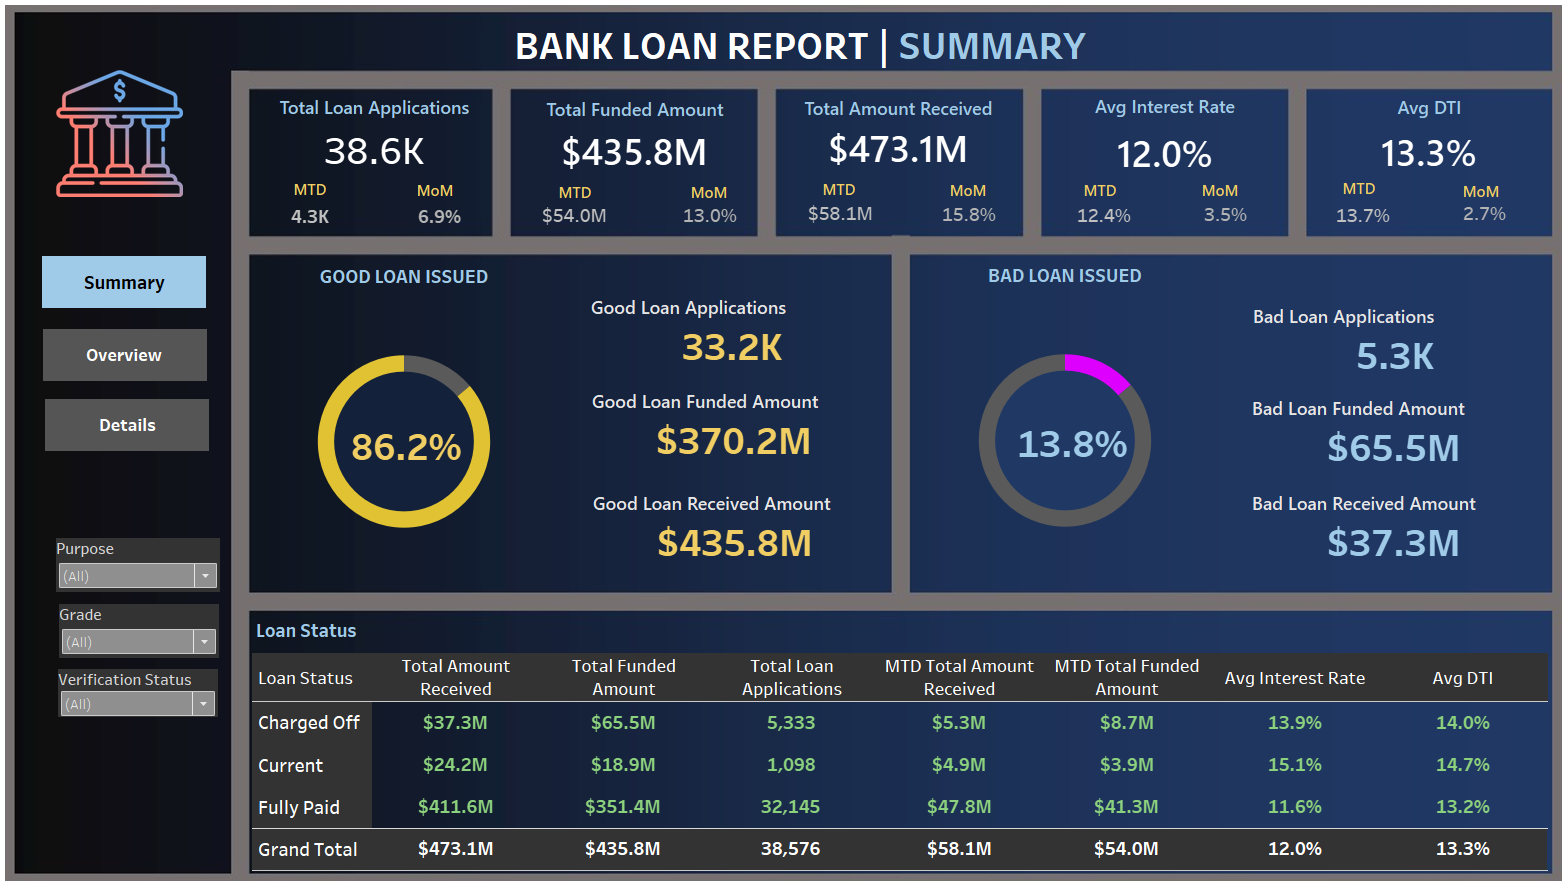

This screenshot's page, from the dashboard's own definition file:
{"tool":"tableau","page":{"name":"SUMMARY","canvas":[1600,900],"ordinal":2},"visuals":[{"type":"image","param":"D:/ProJ_Activity/Portfolio Project/Bank Loan Project/Bank Loan Project/Tableau B","box":[8,8,1584,884]},{"type":"text","box":[527,23,580,56]},{"type":"image","param":"C:/Users/singh/AppData/Local/Temp/TableauTemp/0ttv3fi17pgv751f3xp4t11zuqg1/Sheet","box":[72,77,135,127]},{"type":"worksheet","title":"Avg Interest Rate","mark":"Automatic","box":[1061,97,240,86]},{"type":"worksheet","title":"Total Loan Applications","mark":"Automatic","box":[278,98,225,79]},{"type":"worksheet","title":"Avg DTI","mark":"Automatic","box":[1325,98,241,83]},{"type":"worksheet","title":"Total Amount Received","mark":"Automatic","box":[795,99,239,73]},{"type":"worksheet","title":"Total Funded Amount","mark":"Automatic","box":[533,100,236,76]},{"type":"text","box":[1333,183,84,23]},{"type":"text","box":[284,184,84,23]},{"type":"text","box":[813,184,84,23]},{"type":"text","box":[409,185,84,23]},{"type":"text","box":[942,185,84,23]},{"type":"text","box":[1074,185,84,23]},{"type":"text","box":[1194,185,84,23]},{"type":"text","box":[1455,186,84,23]},{"type":"text","box":[549,187,84,23]},{"type":"text","box":[683,187,84,23]},{"type":"worksheet","title":"MTD Total Amount Received","mark":"Automatic","box":[815,203,83,34]},{"type":"worksheet","title":"MTD Avg DTI","mark":"Automatic","box":[1342,204,74,36]},{"type":"worksheet","title":"MTD Total Funded Amount","mark":"Automatic","box":[549,205,84,35]},{"type":"worksheet","title":"MoM Total Amount Received","mark":"Automatic","box":[946,205,78,32]},{"type":"worksheet","title":"MoM Avg DTI","mark":"Automatic","box":[1467,205,68,31]},{"type":"worksheet","title":"MoM Avg INT Rate","mark":"Automatic","box":[1207,206,71,30]},{"type":"worksheet","title":"MTD Total Loan Applications","mark":"Automatic","box":[286,207,81,32]},{"type":"worksheet","title":"MoM Loan Applications","mark":"Automatic","box":[420,207,73,33]},{"type":"worksheet","title":"MTD Avg INT Rate","mark":"Automatic","box":[1083,207,75,30]},{"type":"worksheet","title":"MoM Total Funded Amount","mark":"Automatic","box":[688,209,76,27]},{"type":"dashboard-object","box":[58,263,164,52]},{"type":"worksheet","title":"Bad Loan Issued","mark":"Pie","rows":["Calculation_892557189422821378","Calculation_892557189422821378"],"box":[931,265,300,325]},{"type":"worksheet","title":"Good Loan Issued","mark":"Pie","rows":["Calculation_892557189422821378","Calculation_892557189422821378"],"box":[270,266,300,325]},{"type":"worksheet","title":"Good Loan Applications","mark":"Automatic","box":[599,294,300,77]},{"type":"worksheet","title":"Bad Loan Applications","mark":"Automatic","box":[1261,303,300,77]},{"type":"dashboard-object","box":[59,336,164,52]},{"type":"worksheet","title":"Good Loan Funded Amount","mark":"Automatic","box":[600,388,300,77]},{"type":"worksheet","title":"Bad Loan Funded Amount","mark":"Automatic","box":[1260,395,300,77]},{"type":"dashboard-object","box":[61,406,164,52]},{"type":"worksheet","title":"Bad Loan Application %","mark":"Automatic","box":[1027,407,125,85]},{"type":"worksheet","title":"Good Loan Application %","mark":"Automatic","box":[360,423,126,59]},{"type":"worksheet","title":"Good Loan Received Amount","mark":"Automatic","box":[601,490,300,77]},{"type":"worksheet","title":"Bad Loan Received Amount","mark":"Automatic","box":[1260,490,300,77]},{"type":"filter","title":"Good Loan Issued","param":"[federated.1j144lr13v6qkz1451sw916ulhen].[none:purpose:nk]","box":[72,545,164,54]},{"type":"filter","title":"Good Loan Issued","param":"[federated.1j144lr13v6qkz1451sw916ulhen].[none:grade:nk]","box":[75,611,160,54]},{"type":"worksheet","title":"Loan Status","mark":"Automatic","rows":["loan_status"],"box":[268,620,1296,258]},{"type":"filter","title":"Good Loan Issued","param":"[federated.1j144lr13v6qkz1451sw916ulhen].[none:verification_status:nk]","box":[74,676,160,48]}]}

Visuals, with their boxes in screenshot pixels (x1, y1, x2, y2), scaled from the page's 1600x900 canvas onto the 1565x885 screenshot:
image: <region>8, 8, 1557, 877</region>
text: <region>515, 23, 1083, 78</region>
image: <region>70, 76, 202, 201</region>
"Avg Interest Rate" worksheet: <region>1038, 95, 1273, 180</region>
"Total Loan Applications" worksheet: <region>272, 96, 492, 174</region>
"Avg DTI" worksheet: <region>1296, 96, 1532, 178</region>
"Total Amount Received" worksheet: <region>778, 97, 1011, 169</region>
"Total Funded Amount" worksheet: <region>521, 98, 752, 173</region>
text: <region>1304, 180, 1386, 203</region>
text: <region>278, 181, 360, 204</region>
text: <region>795, 181, 877, 204</region>
text: <region>400, 182, 482, 205</region>
text: <region>921, 182, 1004, 205</region>
text: <region>1051, 182, 1133, 205</region>
text: <region>1168, 182, 1250, 205</region>
text: <region>1423, 183, 1505, 206</region>
text: <region>537, 184, 619, 206</region>
text: <region>668, 184, 750, 206</region>
"MTD Total Amount Received" worksheet: <region>797, 200, 878, 233</region>
"MTD Avg DTI" worksheet: <region>1313, 201, 1385, 236</region>
"MTD Total Funded Amount" worksheet: <region>537, 202, 619, 236</region>
"MoM Total Amount Received" worksheet: <region>925, 202, 1002, 233</region>
"MoM Avg DTI" worksheet: <region>1435, 202, 1501, 232</region>
"MoM Avg INT Rate" worksheet: <region>1181, 203, 1250, 232</region>
"MTD Total Loan Applications" worksheet: <region>280, 204, 359, 235</region>
"MoM Loan Applications" worksheet: <region>411, 204, 482, 236</region>
"MTD Avg INT Rate" worksheet: <region>1059, 204, 1133, 233</region>
"MoM Total Funded Amount" worksheet: <region>673, 206, 747, 232</region>
dashboard-object: <region>57, 259, 217, 310</region>
"Bad Loan Issued" worksheet (Pie marks): <region>911, 261, 1204, 580</region>
"Good Loan Issued" worksheet (Pie marks): <region>264, 262, 558, 581</region>
"Good Loan Applications" worksheet: <region>586, 289, 879, 365</region>
"Bad Loan Applications" worksheet: <region>1233, 298, 1527, 374</region>
dashboard-object: <region>58, 330, 218, 382</region>
"Good Loan Funded Amount" worksheet: <region>587, 382, 880, 457</region>
"Bad Loan Funded Amount" worksheet: <region>1232, 388, 1526, 464</region>
dashboard-object: <region>60, 399, 220, 450</region>
"Bad Loan Application %" worksheet: <region>1005, 400, 1127, 484</region>
"Good Loan Application %" worksheet: <region>352, 416, 475, 474</region>
"Good Loan Received Amount" worksheet: <region>588, 482, 881, 558</region>
"Bad Loan Received Amount" worksheet: <region>1232, 482, 1526, 558</region>
"Good Loan Issued" filter: <region>70, 536, 231, 589</region>
"Good Loan Issued" filter: <region>73, 601, 230, 654</region>
"Loan Status" worksheet: <region>262, 610, 1530, 863</region>
"Good Loan Issued" filter: <region>72, 665, 229, 712</region>
